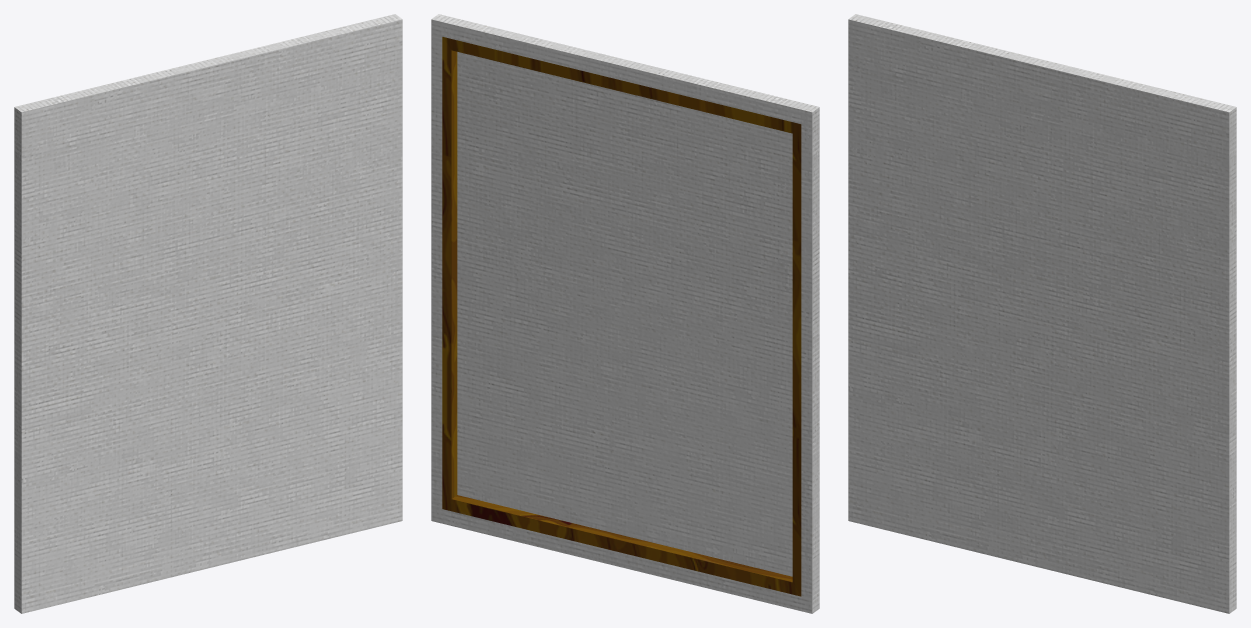
File: painting-canadian-indians.glb
3 renders of one model, left to right at view 1: azimuth 30°, elevation 25°; view 2: azimuth 150°, elevation 25°; view 3: azimuth 330°, elevation 25°, orthographic.
Visible parts, largest first — view 1: painting_canvas; view 2: painting_canvas (×2); view 3: painting_canvas.
Boxes of the visible parts, <box> form: painting_canvas: <box>14,14,402,613</box>; painting_canvas (×2): <box>431,14,819,613</box>; painting_canvas: <box>848,14,1236,613</box>.
Size of the model in its own units: 3.17 by 3.98 by 0.1059.
Materials: 2 (2 with a texture image).
